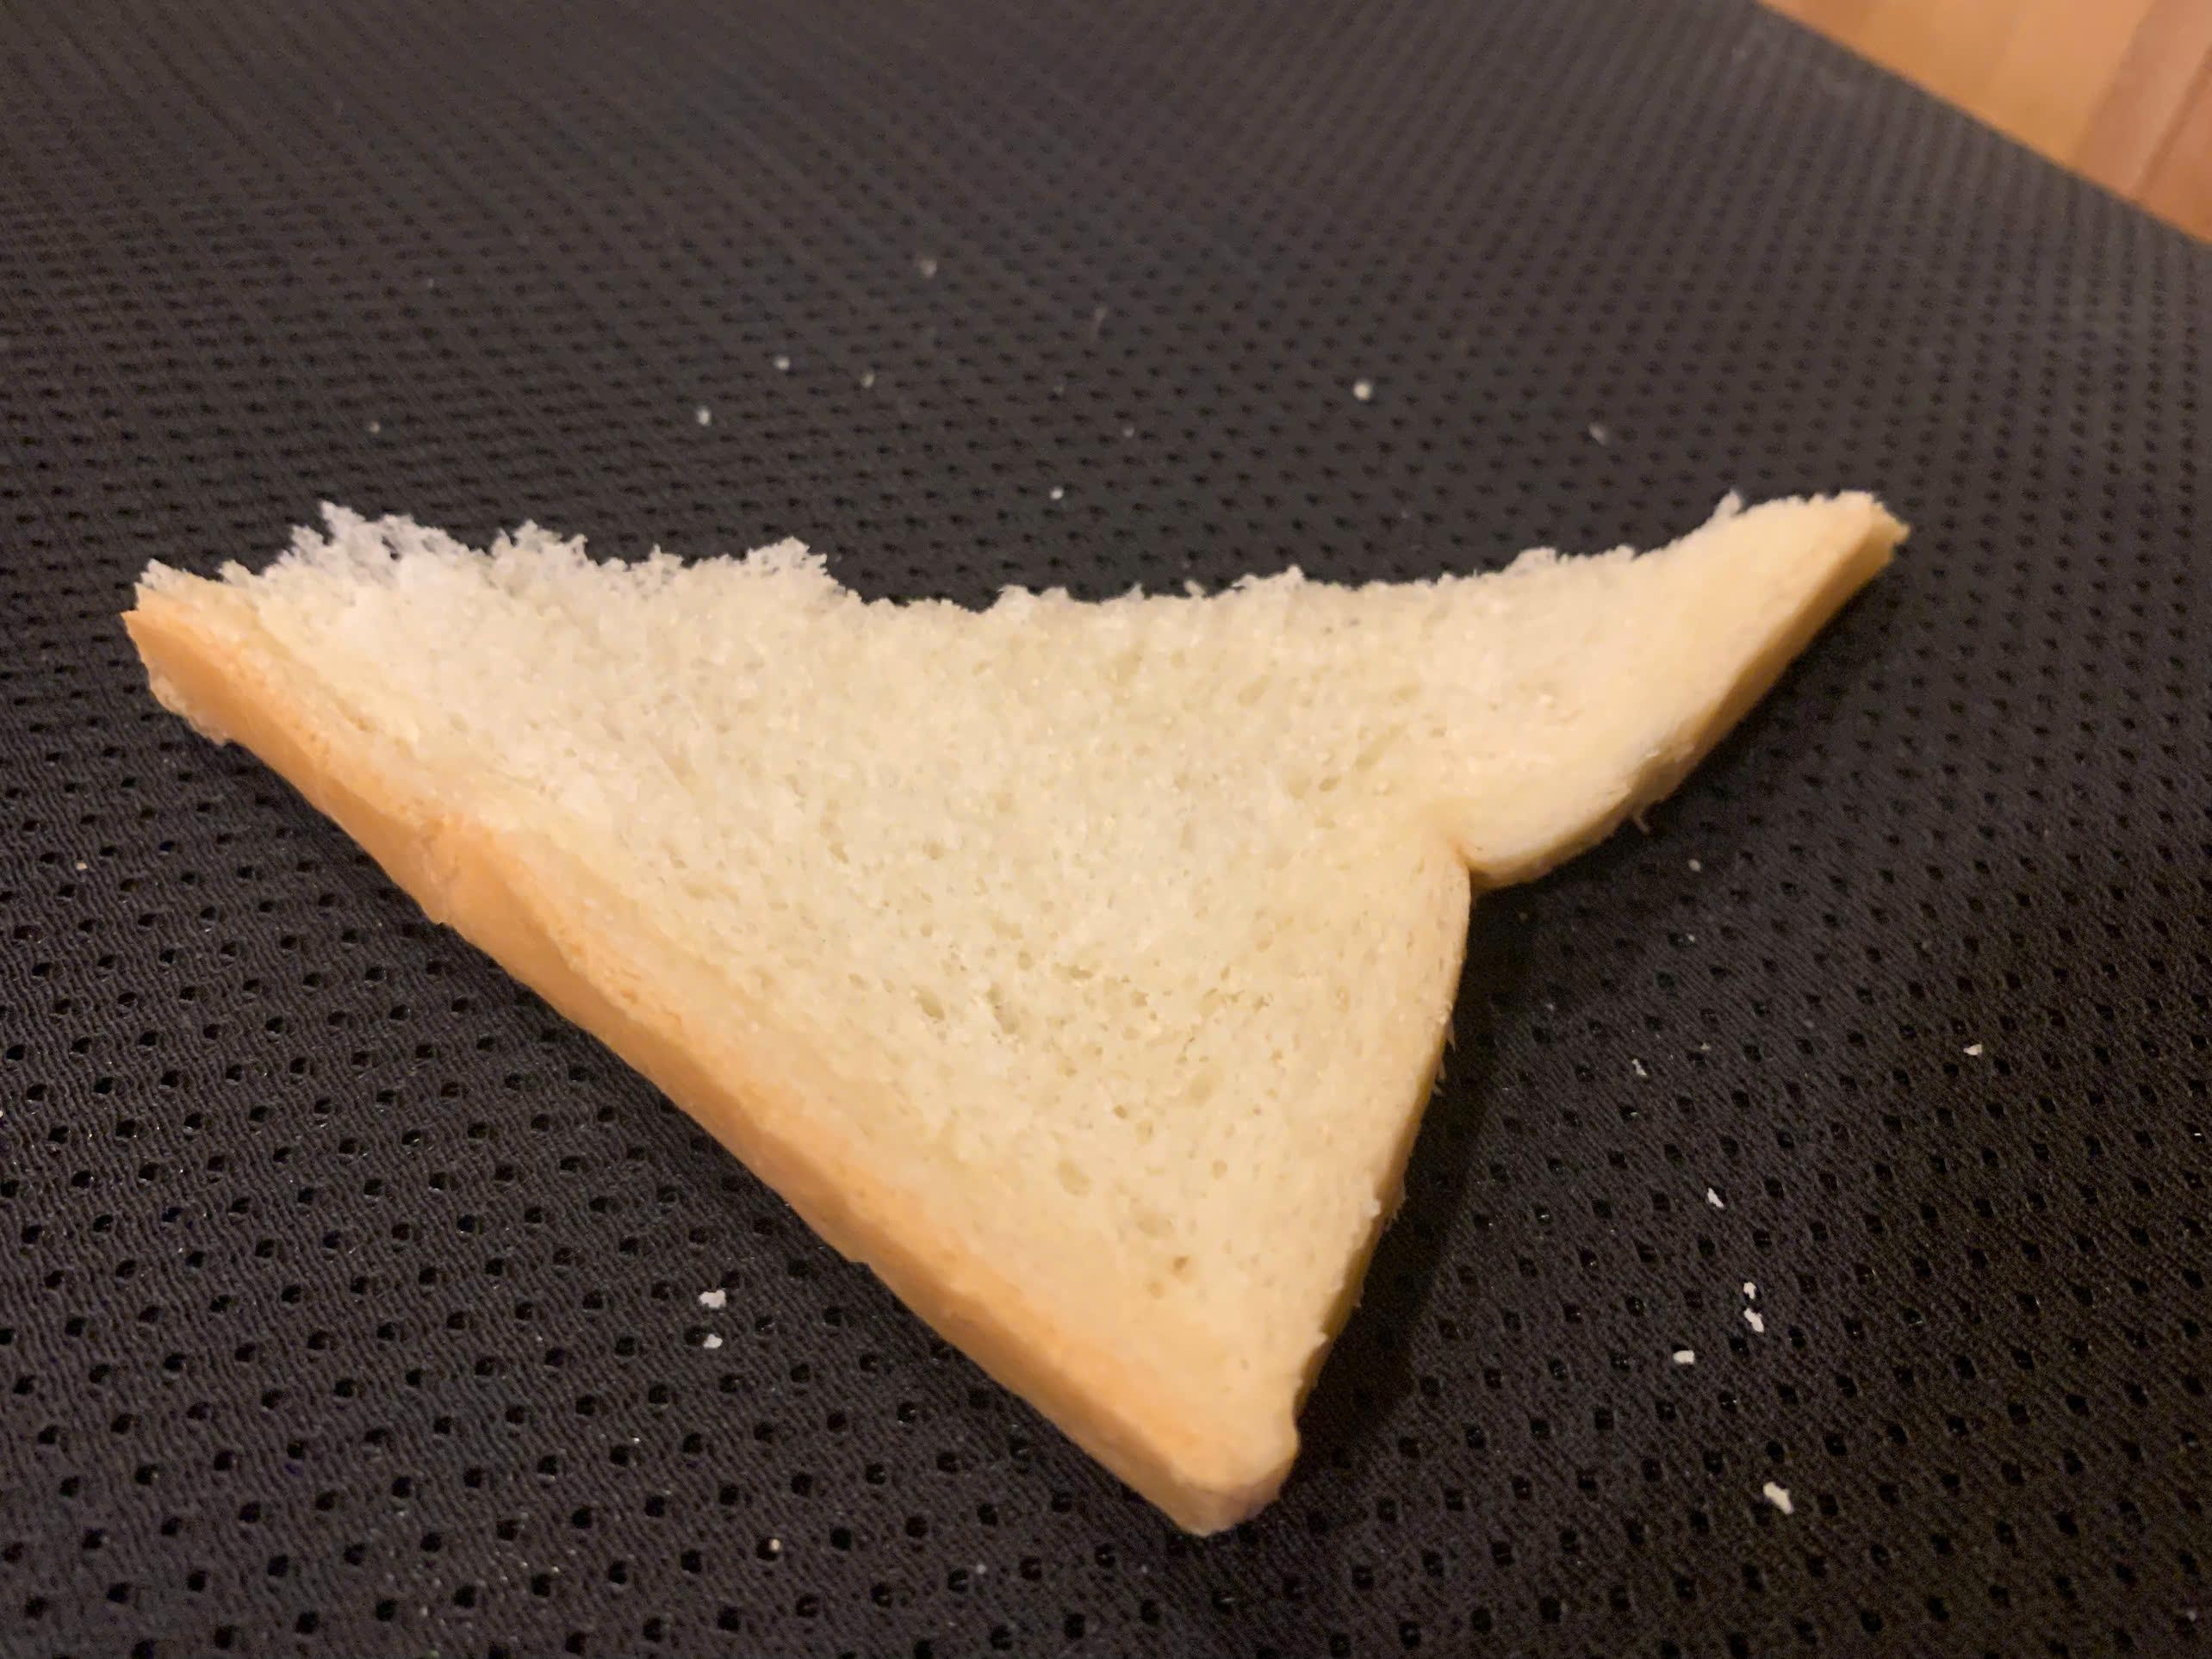Huu co: (132, 491, 1895, 1520)
